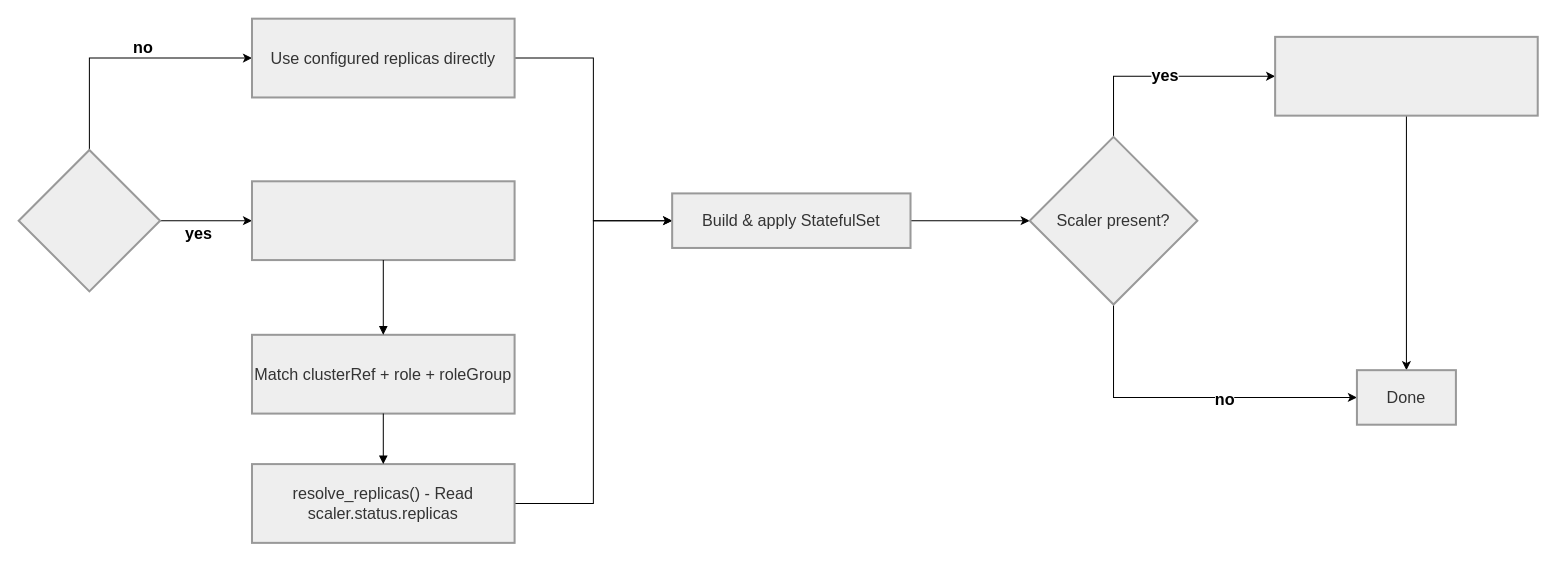
The diagram is 1555 pixels wide and 561 high, and some of its shapes have lost their labels. Each missing label, with the centre of its shape:
"List StackableScalers by label selector" goes at pixel 382 220.
"reconcile_scaler() - Drive state machine + hooks" goes at pixel 1406 75.
"replicas: 0 ?" goes at pixel 89 220.
